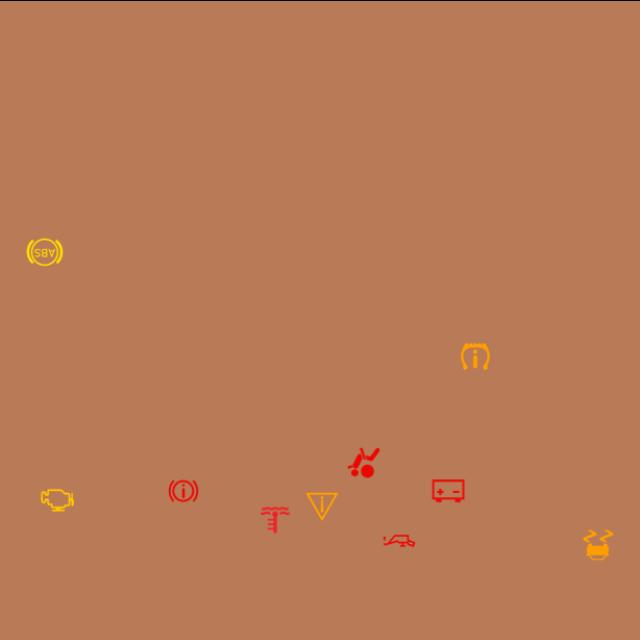Anti Lock Braking System: (25, 231, 65, 271)
Braking System Issue: (164, 470, 204, 510)
Charging System Issue: (428, 470, 468, 510)
Check Engine: (38, 480, 78, 519)
Electronic Stability Problem -ESP-: (578, 524, 618, 564)
Engine Overheating Warning Light: (255, 499, 295, 539)
Low Engine Oil Warning Light: (379, 520, 419, 560)
Low Tire Pressure Warning Light: (456, 336, 496, 376)
Master warning light: (302, 486, 342, 526)
SRS-Airbag: (344, 442, 384, 482)
